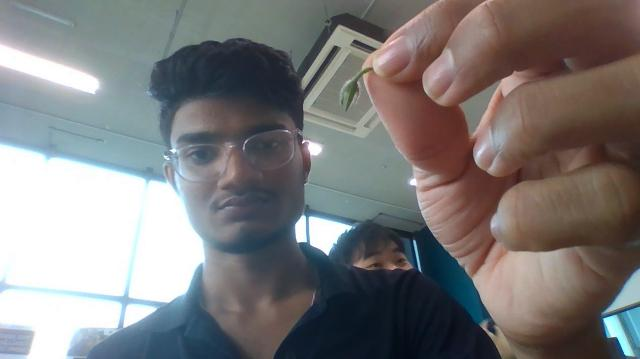Fruit Bud: (339, 74, 363, 114)
